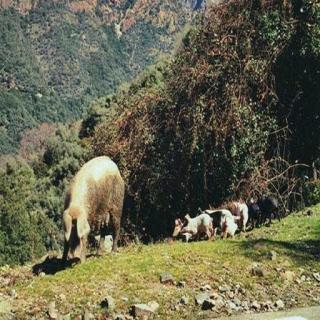Pig: (23, 150, 184, 271)
